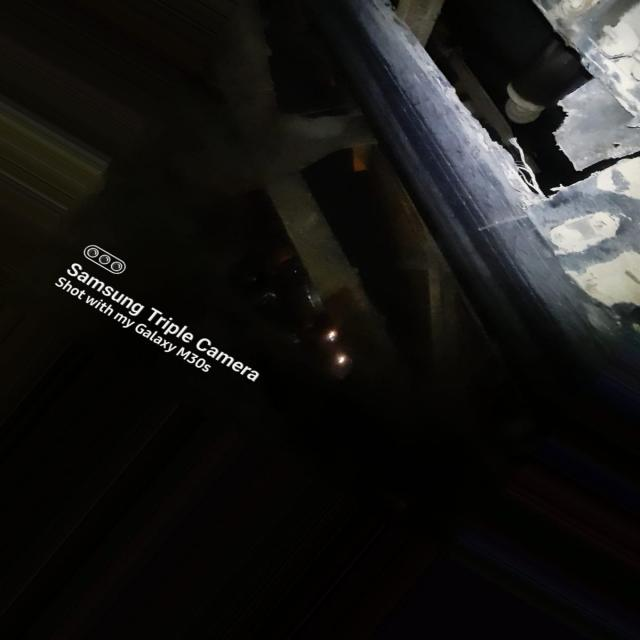Hole: (386, 0, 640, 199)
